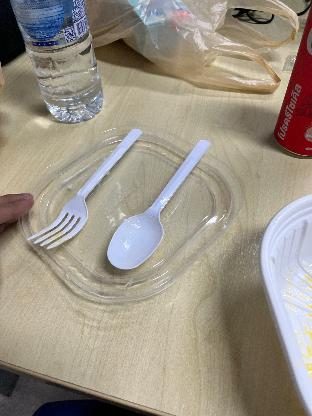Others: (98, 137, 216, 275), (28, 123, 146, 253)
Plastic Bottle: (6, 0, 108, 122)
